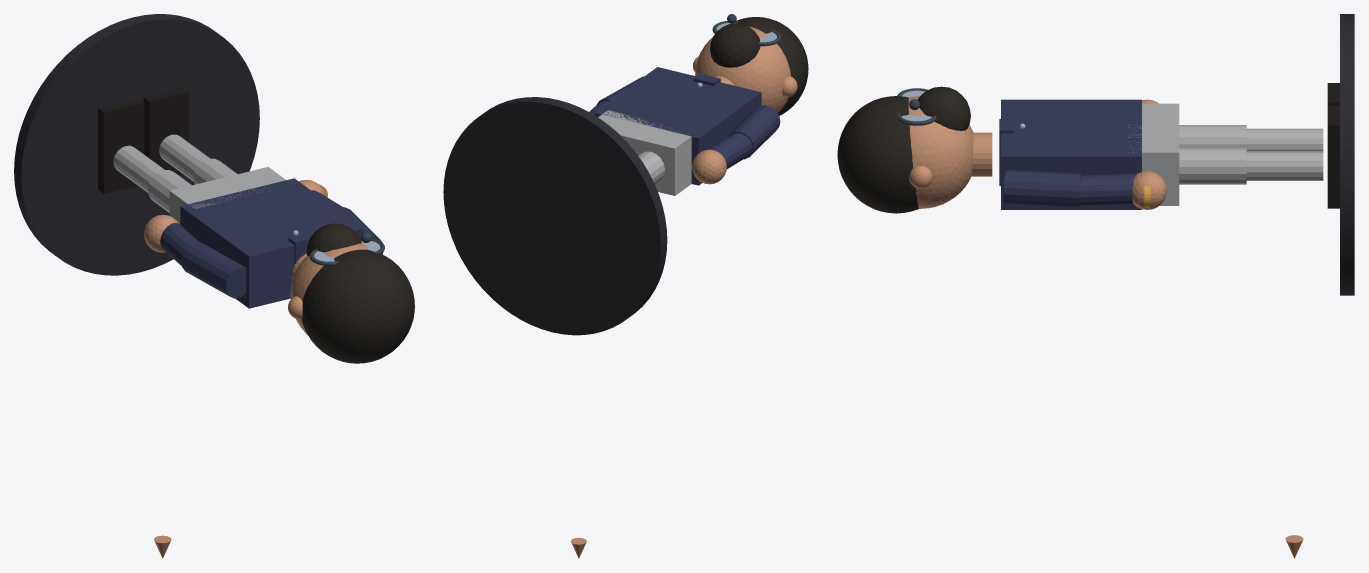
The model's file is abhishek-gaur.glb.
The picture shows the model from 3 angles, left to right: view 1: azimuth 30°, elevation 25°; view 2: azimuth 150°, elevation 25°; view 3: azimuth 270°, elevation 25°; orthographic projection. The views are drawn at different scales.
Parts seen in each view (by area): view 1: Platform, ShirtTorso, Hair, L_Shoe, R_Shoe, L_UpperArm, Pelvis, R_LowerLeg, L_LowerLeg, Beard, Head, L_UpperLeg (+3 smaller); view 2: Platform, ShirtTorso, Pelvis, Head, Hair, Beard, L_UpperArm, L_Hand, L_Forearm, L_UpperLeg; view 3: ShirtTorso, Hair, Head, Platform, Pelvis, R_UpperArm, R_UpperLeg, R_LowerLeg, L_LowerLeg, R_Forearm, Beard, L_UpperLeg (+3 smaller).
Part boxes in pixels (<box>): Platform: <box>14,14,259,275</box>; ShirtTorso: <box>180,178,363,308</box>; Hair: <box>302,249,414,363</box>; L_Shoe: <box>98,99,143,193</box>; R_Shoe: <box>143,87,188,175</box>; L_UpperArm: <box>181,242,246,298</box>; Pelvis: <box>169,167,286,224</box>; R_LowerLeg: <box>159,134,210,181</box>; L_LowerLeg: <box>113,145,164,192</box>; Beard: <box>306,223,361,255</box>; Head: <box>290,243,381,334</box>; L_UpperLeg: <box>147,170,191,212</box>; Platform: <box>443,97,667,335</box>; ShirtTorso: <box>594,67,761,185</box>; Pelvis: <box>598,110,691,195</box>; Head: <box>695,26,790,113</box>; Hair: <box>736,17,808,115</box>; Beard: <box>710,23,760,67</box>; L_UpperArm: <box>728,105,780,159</box>; L_Hand: <box>692,149,726,184</box>; L_Forearm: <box>707,133,752,168</box>; L_UpperLeg: <box>638,151,664,183</box>; ShirtTorso: <box>1001,99,1141,209</box>; Hair: <box>837,96,918,213</box>; Head: <box>908,96,973,208</box>; Platform: <box>1340,14,1354,295</box>; Pelvis: <box>1128,103,1179,205</box>; R_UpperArm: <box>1003,170,1082,207</box>; R_UpperLeg: <box>1179,147,1246,184</box>; R_LowerLeg: <box>1246,151,1323,180</box>; L_LowerLeg: <box>1246,128,1323,151</box>; R_Forearm: <box>1079,173,1136,206</box>; Beard: <box>917,86,970,130</box>; L_UpperLeg: <box>1179,125,1246,147</box>.
Size of the model in its own units: 2.3 by 4.79 by 4.22.
